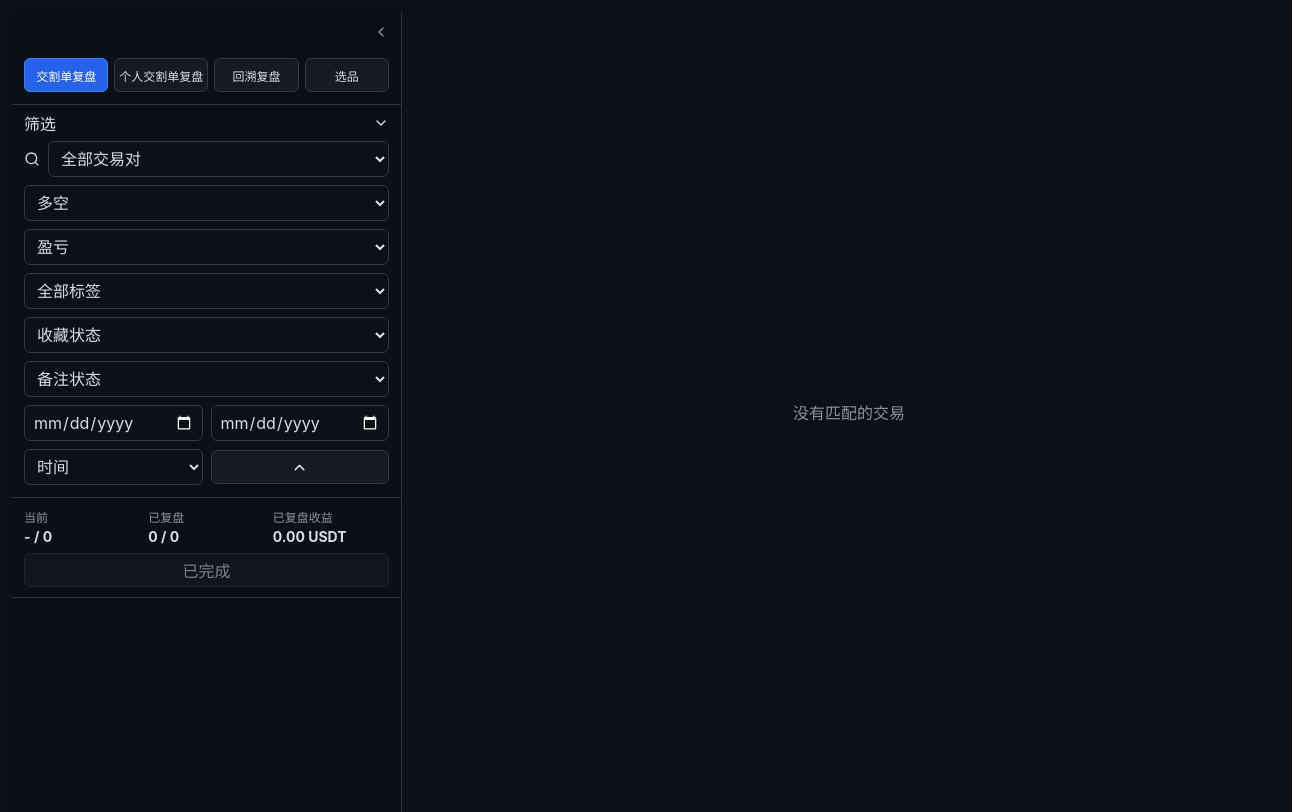
Test case: App Free Replay › collapses the whole sidebar via the explicit collapse button
The width and height of the screenshot is (1292, 812).
Click the button named "收起侧边栏".
click(381, 32)  # box [367,18,395,46]
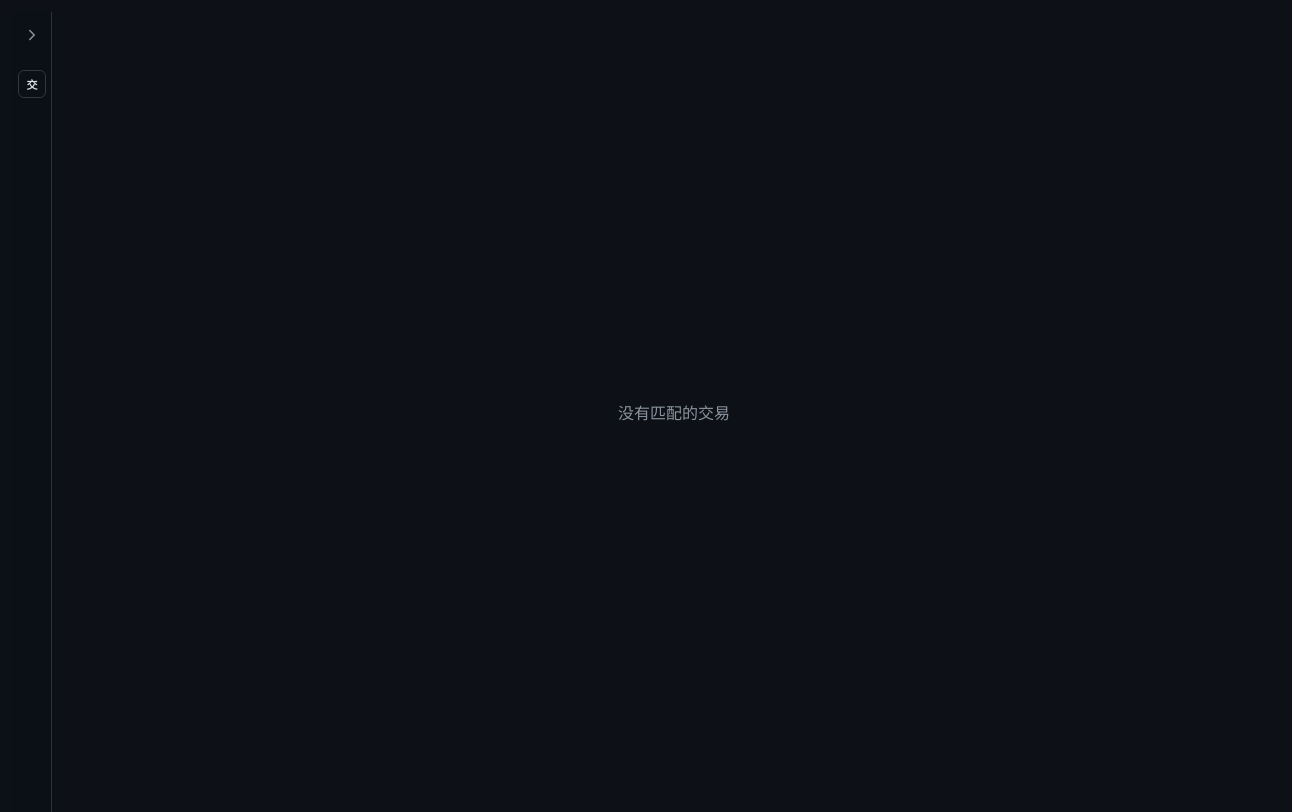
Expected: the element with class "collapsed" is shown, [12,12,52,811]
